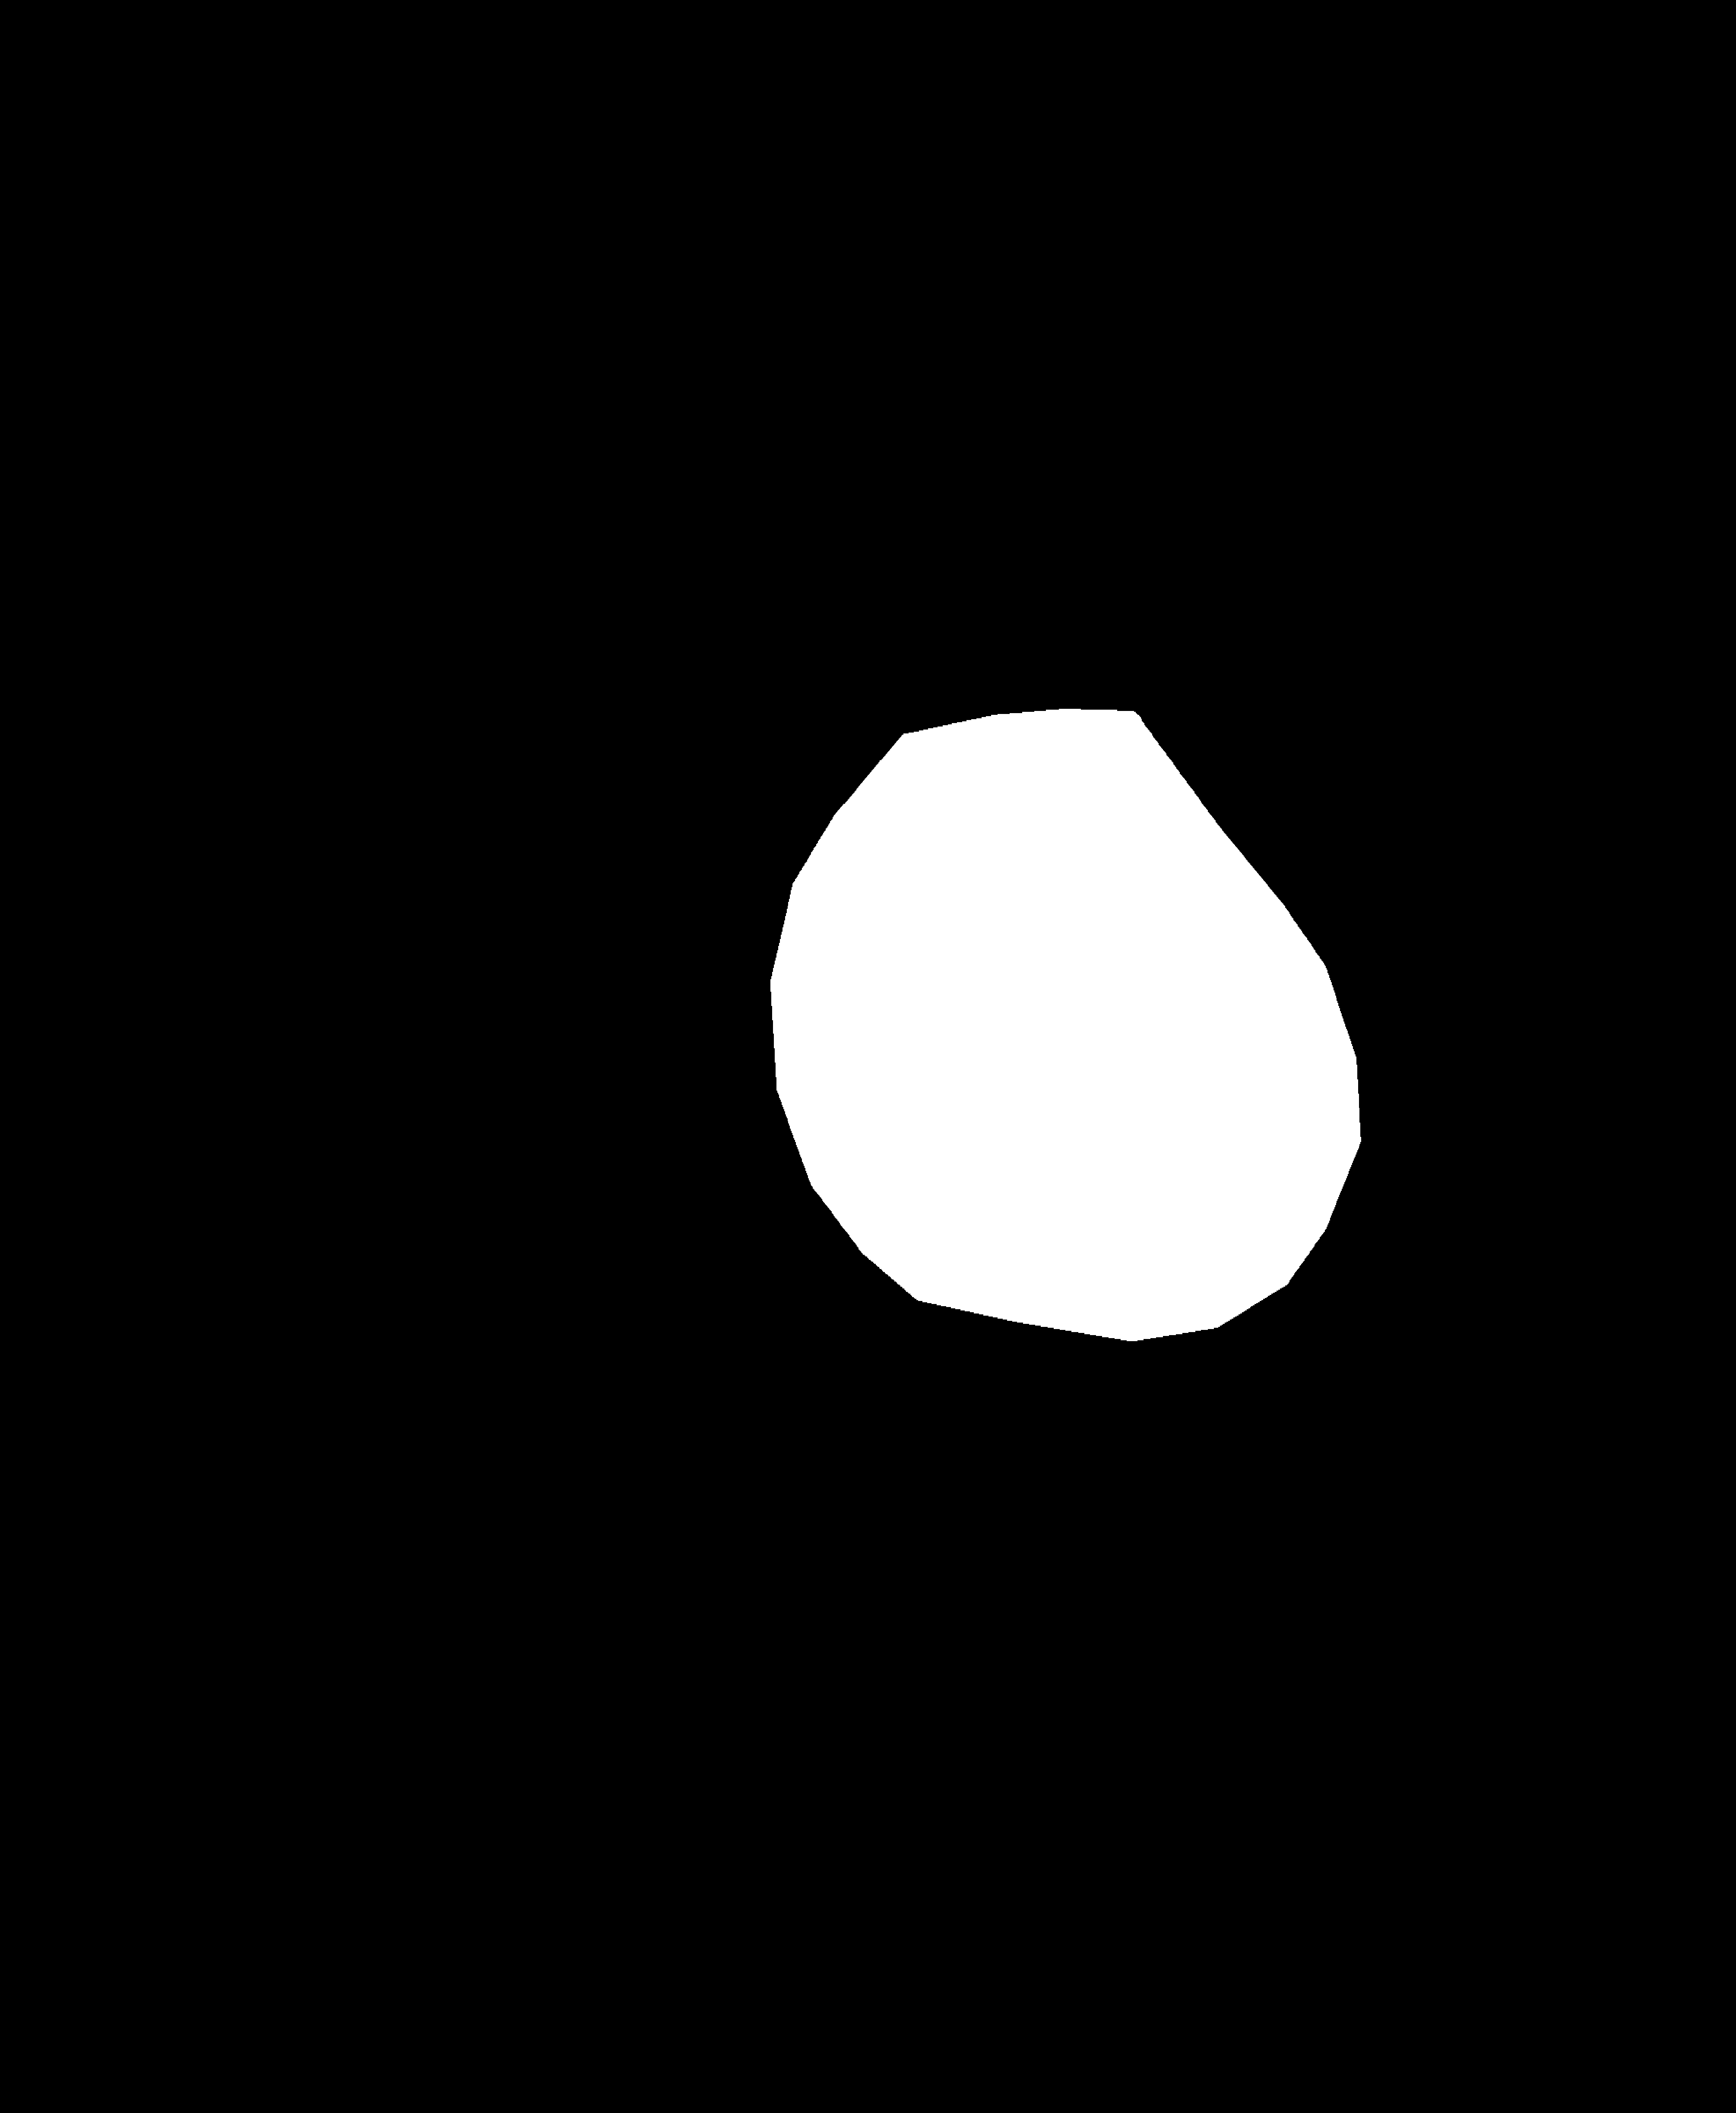heart: (772, 770, 1362, 1279)
left_lung: (298, 140, 888, 1476)
right_lung: (1006, 95, 1631, 1302)
